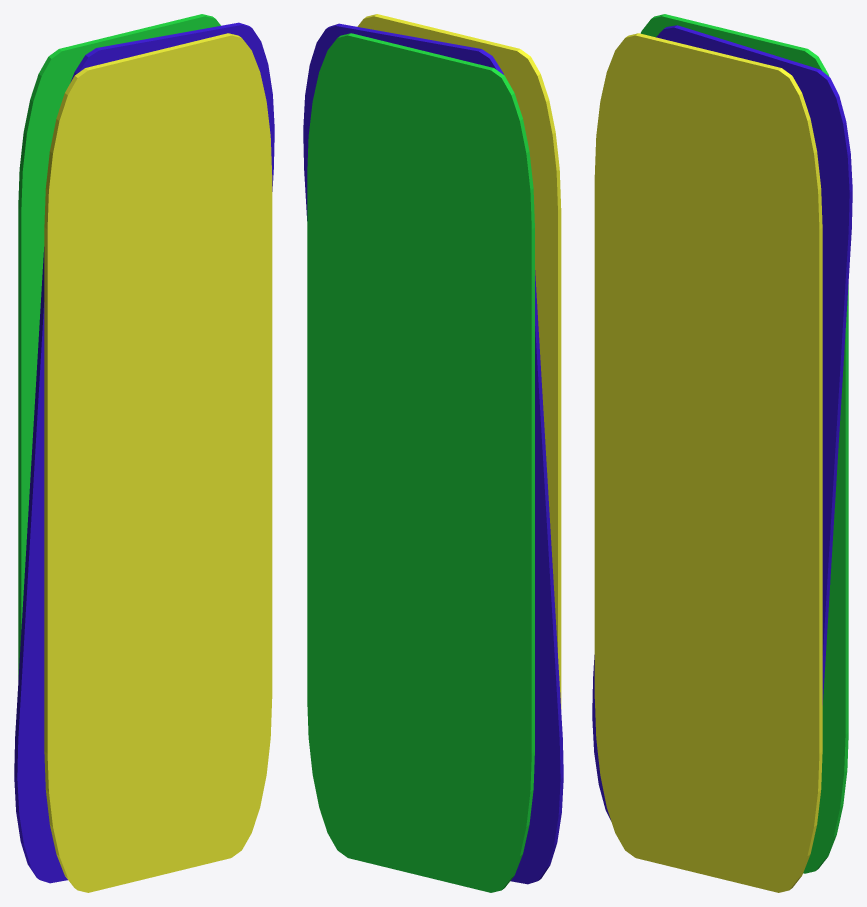
3 renders of one model, left to right at view 1: azimuth 30°, elevation 25°; view 2: azimuth 150°, elevation 25°; view 3: azimuth 330°, elevation 25°, orthographic.
Parts seen in each view (by area): view 1: Cube.002; view 2: Cube.002; view 3: Cube.002.
Boxes of the visible parts, box(x1,y1,x2,y2) form: Cube.002: box(14, 14, 274, 892); Cube.002: box(303, 14, 563, 892); Cube.002: box(592, 14, 852, 892).
Size of the model in its own units: 484 by 1492 by 95.59.
